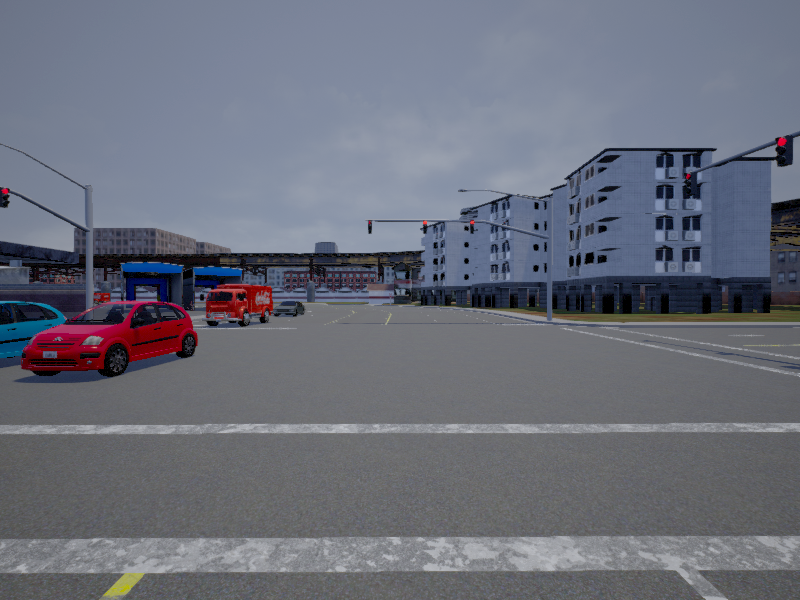Benign: (17, 299, 196, 373), (1, 303, 69, 356), (205, 287, 276, 328), (274, 300, 303, 316)
